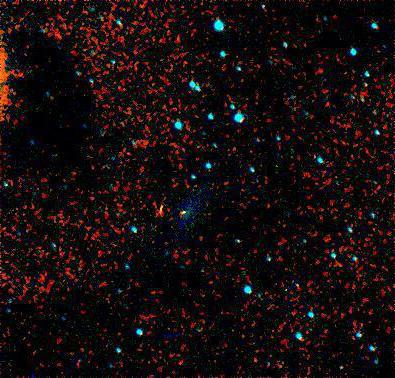star: (166, 196, 196, 226)
